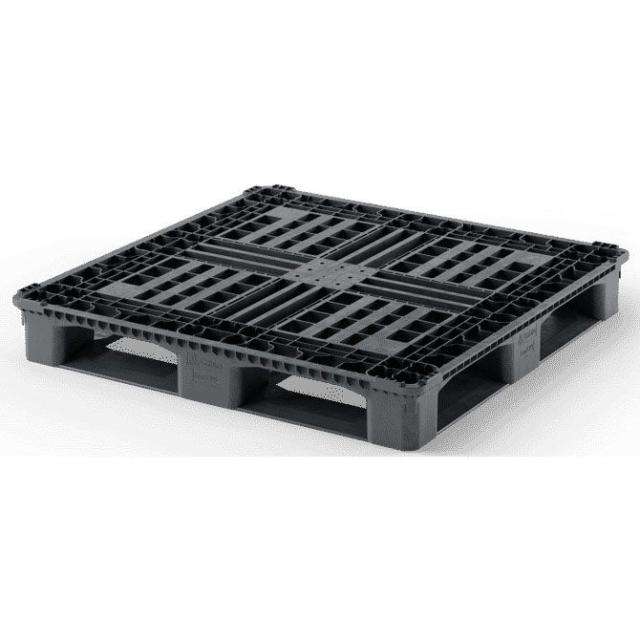non-igps: (8, 172, 634, 458)
